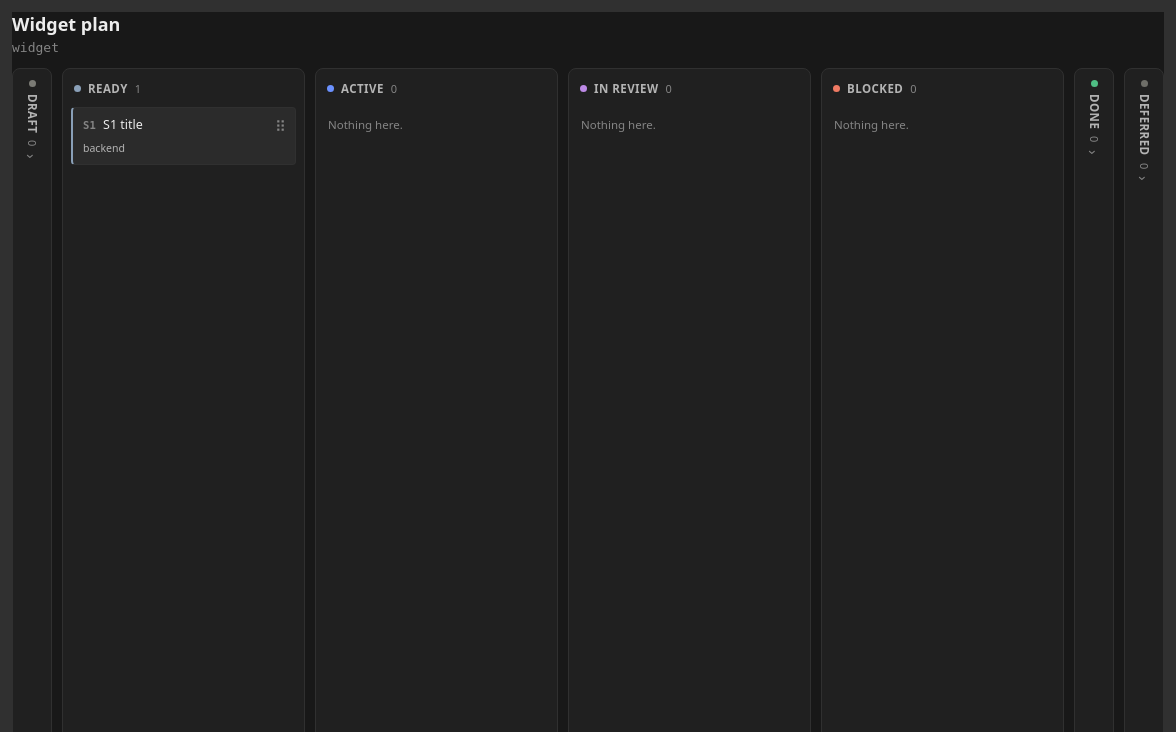
it: rolls an optimistic drag back when ai-planner refuses it
Press the mouse on the text "⠿" at (280, 126), box [275,116,286,136]
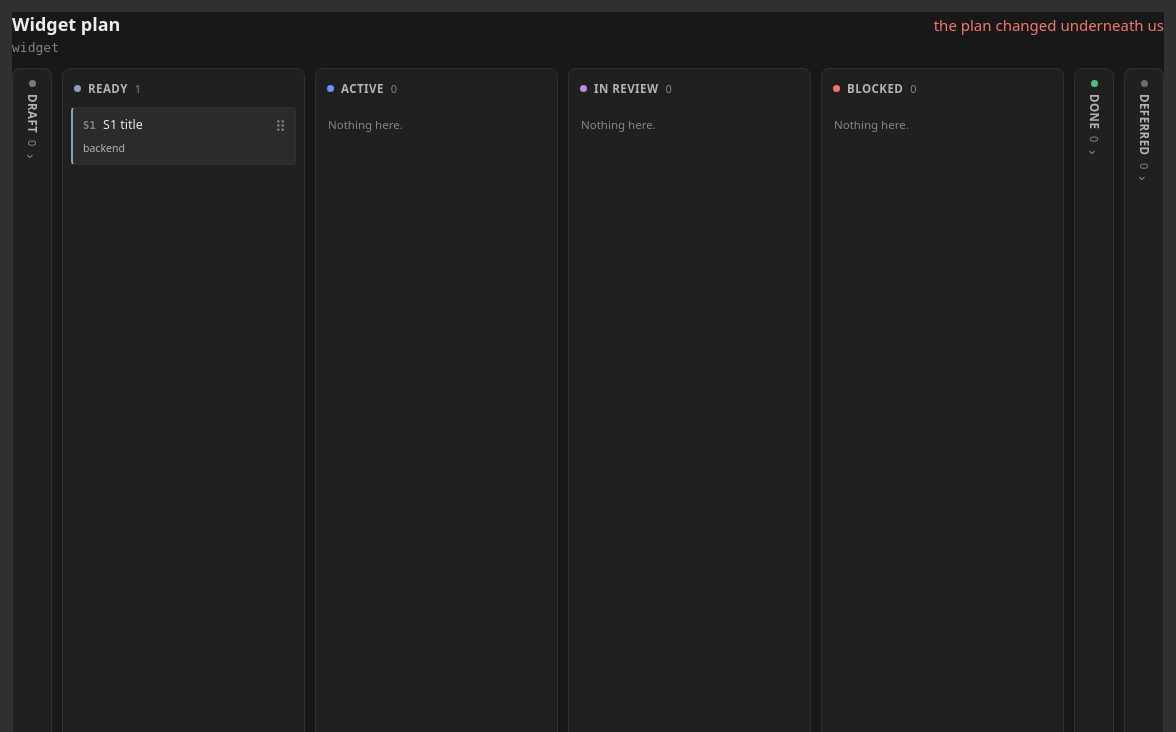
Check: the text "S1 title" is shown, box [103,116,143,134]
Check: the text "the plan changed underneath us" is shown, box [934,15,1164,35]
